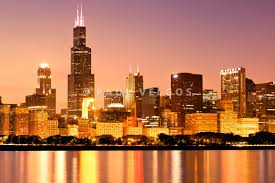willis: (61, 1, 99, 98)
